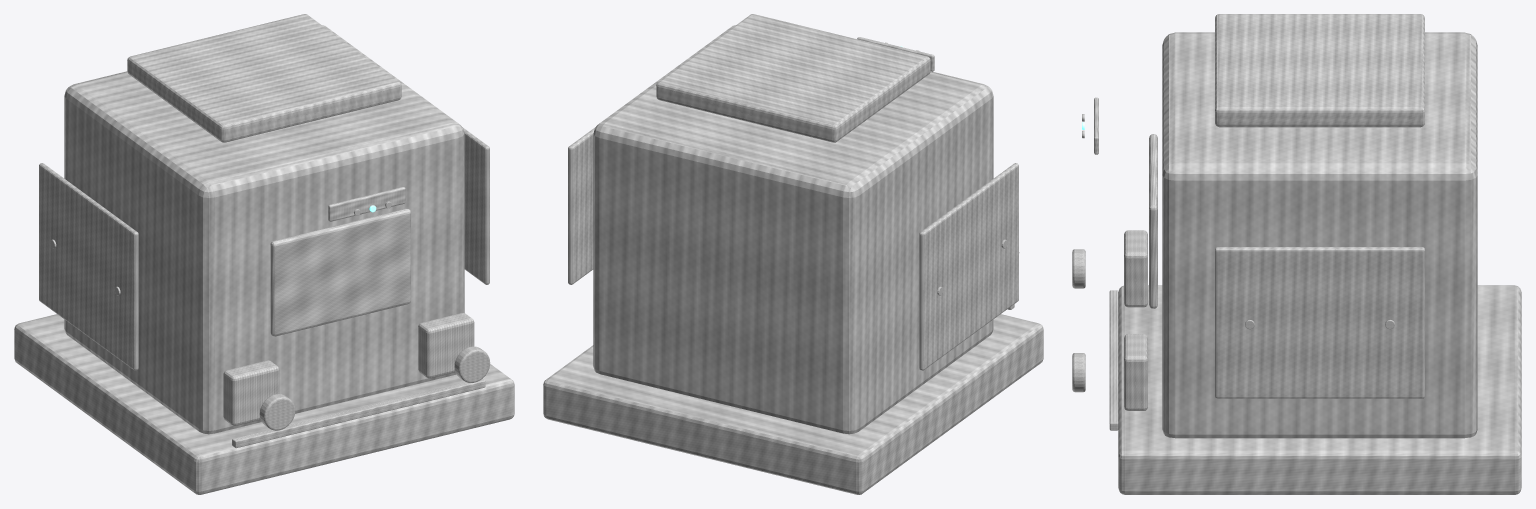
File: smelter_variant_c.glb
3 renders of one model, left to right at view 1: azimuth 30°, elevation 25°; view 2: azimuth 150°, elevation 25°; view 3: azimuth 270°, elevation 25°, orthographic. The views are drawn at different scales.
Parts seen in each view (by area): view 1: Main machine shell.002, Foundation skid.002, Heat shield.002, Side access panel.004, Furnace viewing aperture.002, Side access panel.005, Input output port.004, Input output port.005, Amber safety sill.003, Status panel.002, Port coupling.005, Port coupling.004; view 2: Main machine shell.002, Foundation skid.002, Heat shield.002, Side access panel.004, Side access panel.005; view 3: Main machine shell.002, Foundation skid.002, Side access panel.005, Heat shield.002, Input output port.004, Input output port.005, Furnace viewing aperture.002, Amber safety sill.003, Port coupling.004, Port coupling.005.
Boxes of the visible parts, <box> form: Main machine shell.002: <box>64,25,464,434</box>; Foundation skid.002: <box>14,314,514,494</box>; Heat shield.002: <box>127,14,401,142</box>; Side access panel.004: <box>39,163,138,370</box>; Furnace viewing aperture.002: <box>270,208,410,336</box>; Side access panel.005: <box>462,127,489,284</box>; Input output port.004: <box>223,360,279,425</box>; Input output port.005: <box>418,313,474,378</box>; Amber safety sill.003: <box>232,378,485,448</box>; Status panel.002: <box>328,187,405,221</box>; Port coupling.005: <box>454,346,490,382</box>; Port coupling.004: <box>259,394,295,430</box>; Main machine shell.002: <box>593,25,993,434</box>; Foundation skid.002: <box>543,314,1043,494</box>; Heat shield.002: <box>656,14,930,142</box>; Side access panel.004: <box>919,163,1018,370</box>; Side access panel.005: <box>568,127,595,284</box>; Main machine shell.002: <box>1162,32,1477,438</box>; Foundation skid.002: <box>1118,285,1521,494</box>; Side access panel.005: <box>1215,247,1424,398</box>; Heat shield.002: <box>1215,14,1424,127</box>; Input output port.004: <box>1124,230,1147,307</box>; Input output port.005: <box>1124,334,1147,410</box>; Furnace viewing aperture.002: <box>1149,134,1157,308</box>; Amber safety sill.003: <box>1109,290,1118,430</box>; Port coupling.004: <box>1072,249,1085,288</box>; Port coupling.005: <box>1072,353,1085,392</box>.
Size of what is drawn, in the model's own units: 4.14 by 3.54 by 4.1.
Materials: 6 (6 with a texture image).
